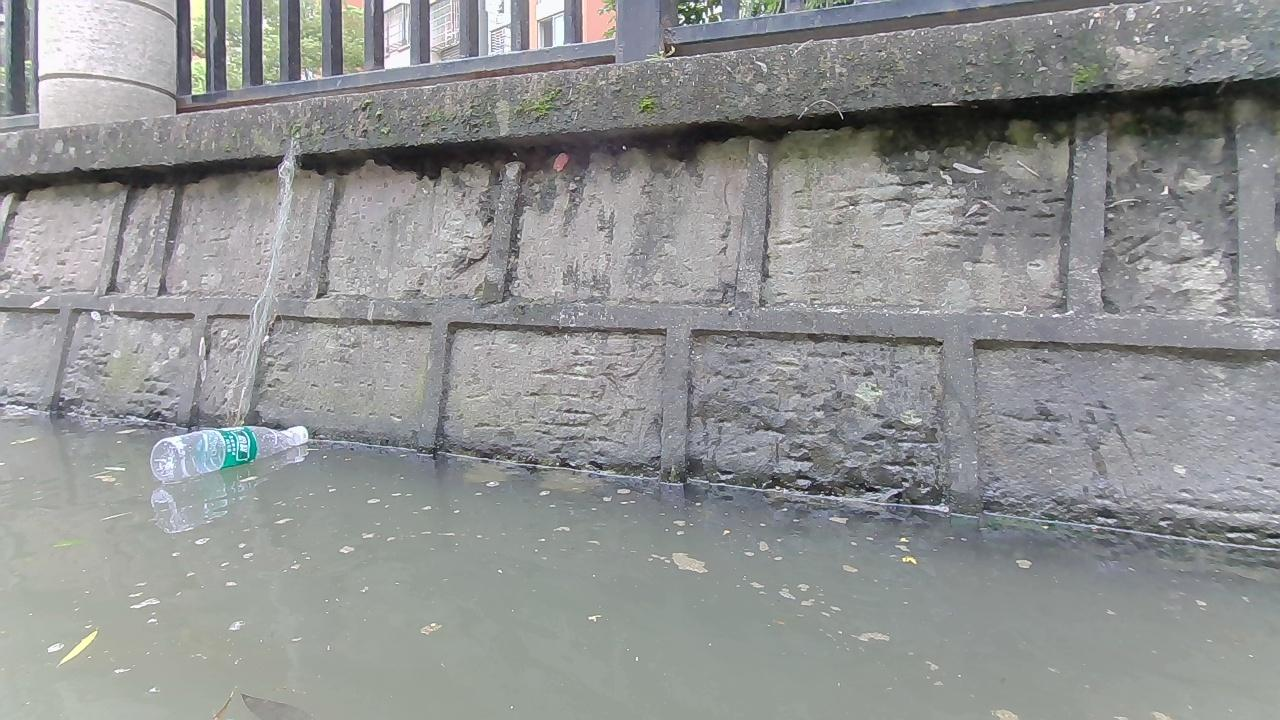bottle: (149, 424, 307, 483)
